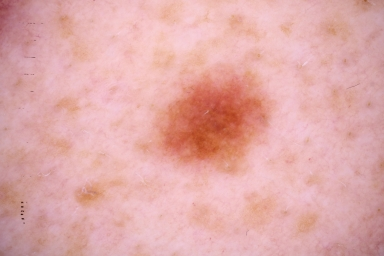melanoma: (161, 79, 269, 162)
